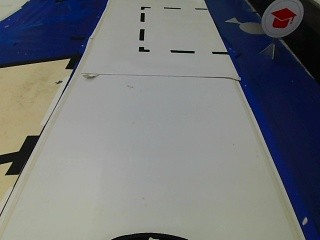school: (261, 0, 301, 38)
